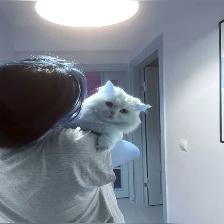kedo: (54, 80, 151, 153)
